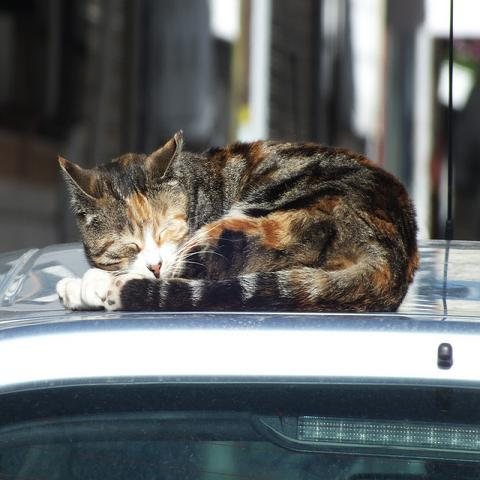car: (0, 238, 479, 479)
